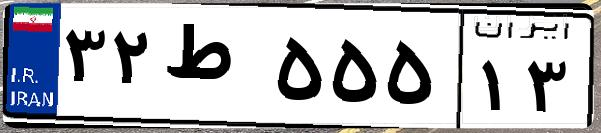1: (475, 38, 525, 113)
2: (110, 28, 158, 98)
3: (57, 26, 110, 100), (525, 38, 570, 115)
5: (270, 28, 330, 110), (385, 28, 445, 110), (330, 28, 385, 110)
ط: (158, 20, 270, 120)
